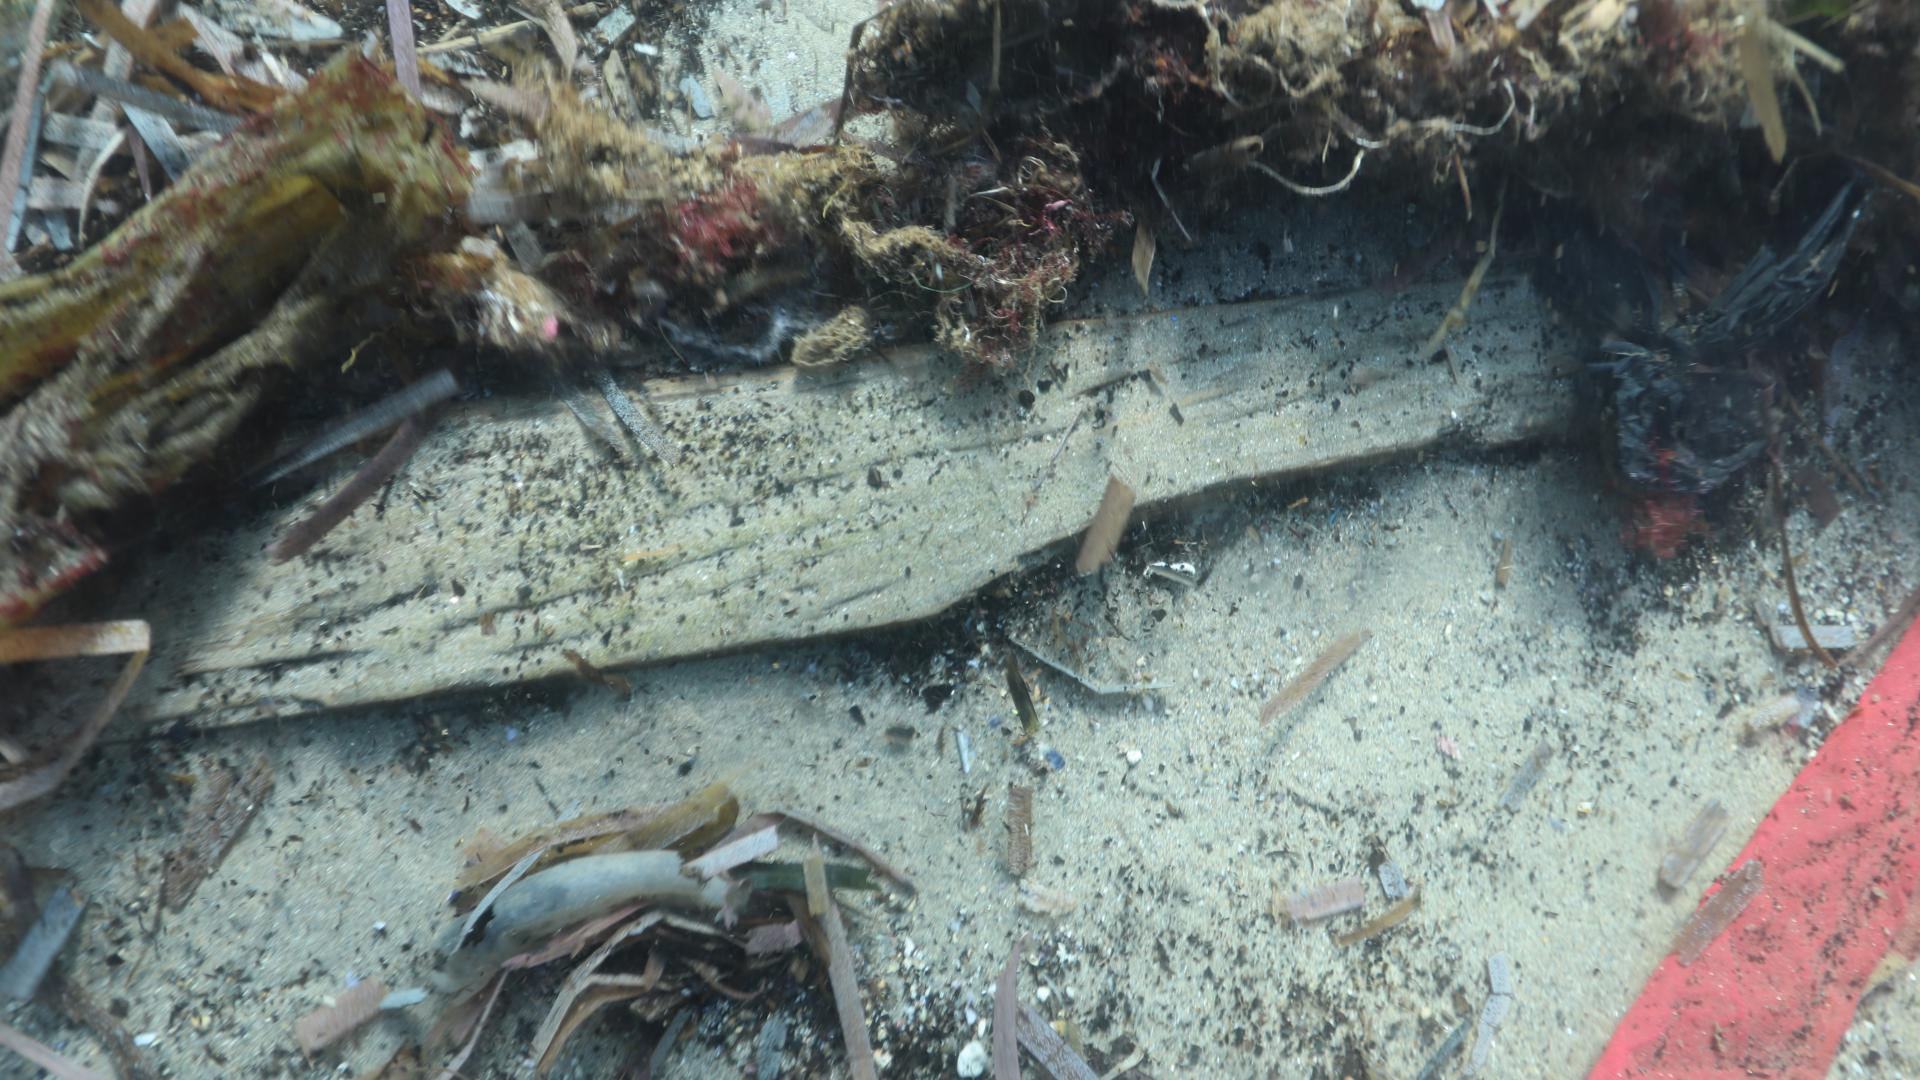wood: (98, 266, 1573, 735)
